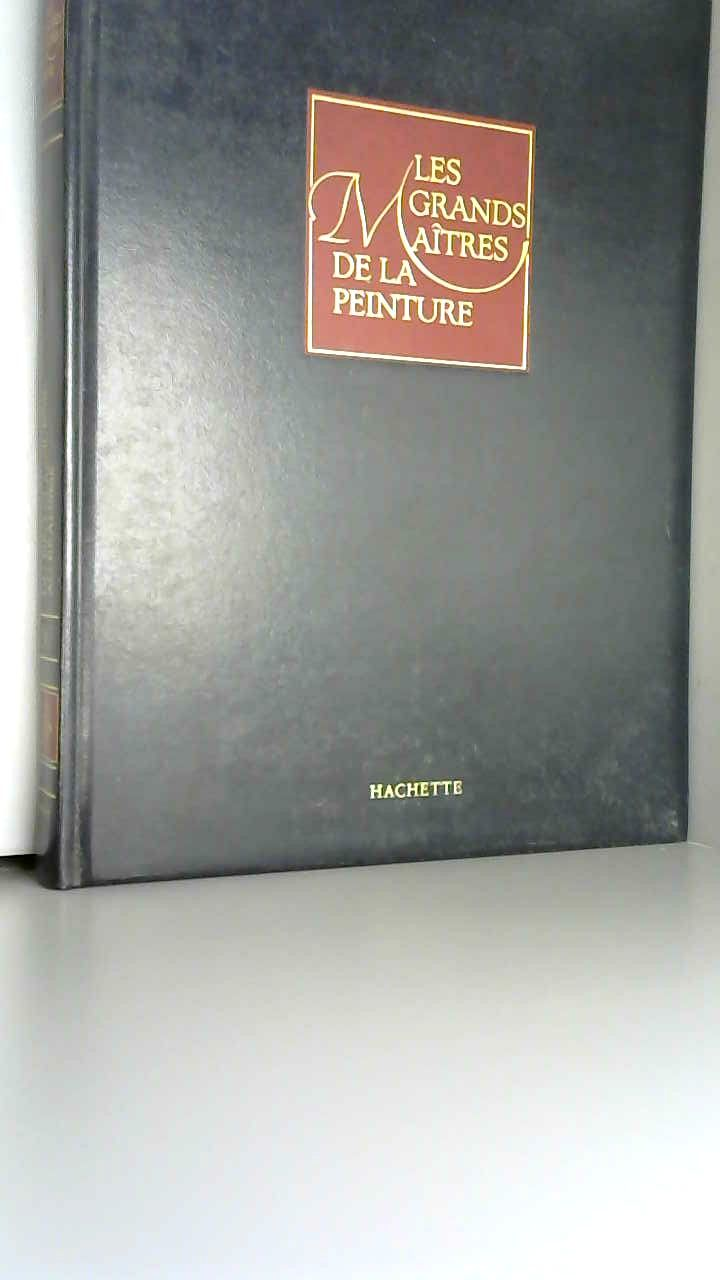book: (0, 0, 720, 916)
